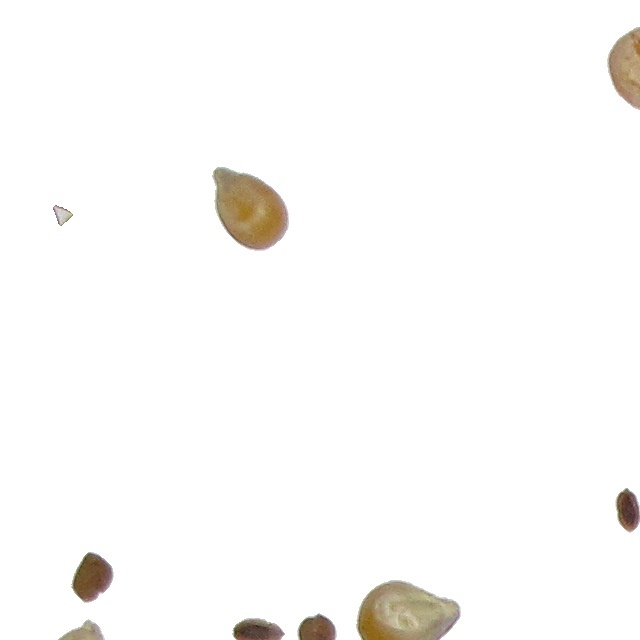buckwheat: (70, 551, 115, 604), (231, 617, 286, 640), (614, 487, 640, 534), (296, 612, 338, 640)
dill: (52, 204, 74, 227)
mais: (211, 166, 290, 252), (355, 579, 462, 640), (606, 24, 640, 115), (38, 618, 117, 640)
